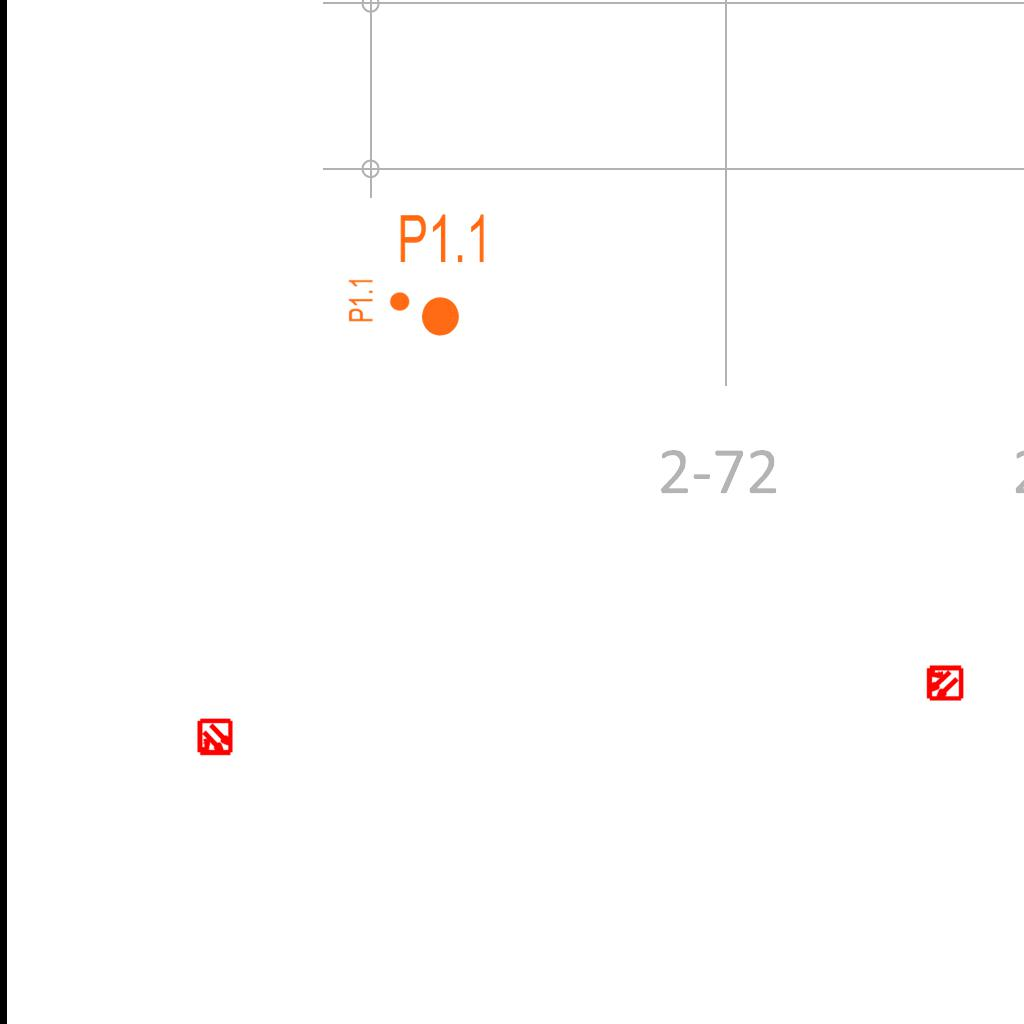Downlight_LED_Einbauleuchten_Flur: (397, 211, 490, 339), (347, 277, 411, 323)
OT_Multisensormelder_(Kombination_RMO_WMD): (915, 654, 973, 712), (187, 710, 243, 766)
